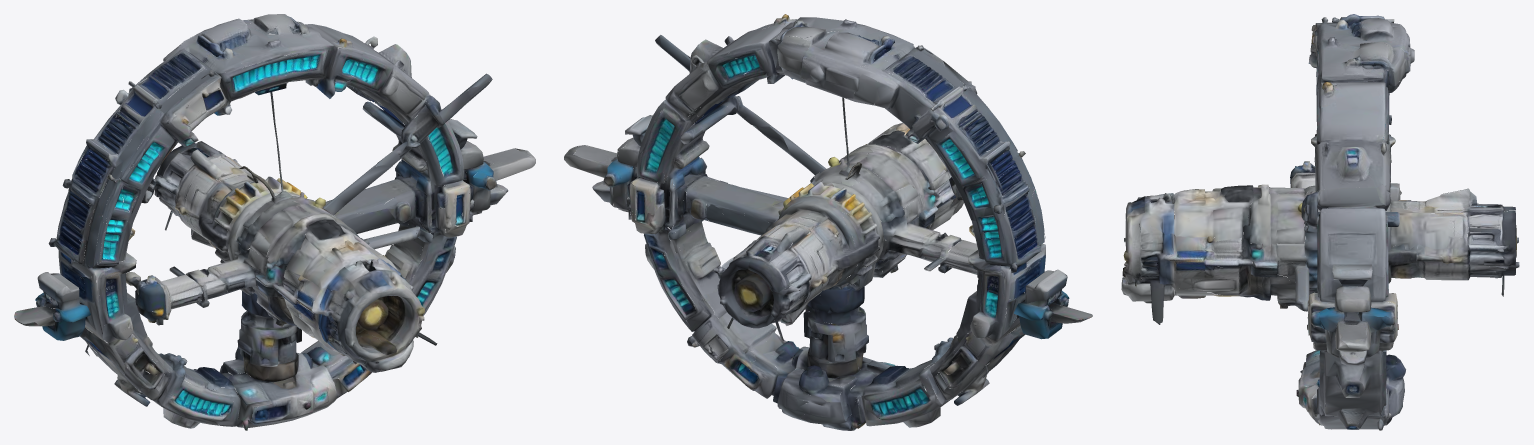
The model's file is station_nova1.glb.
3 renders of one model, left to right at view 1: azimuth 30°, elevation 25°; view 2: azimuth 150°, elevation 25°; view 3: azimuth 270°, elevation 25°, orthographic. The views are drawn at different scales.
Visible parts, largest first — view 1: tripo_node_04818bd4-21a9-4662-8d40-6d0f2524563c; view 2: tripo_node_04818bd4-21a9-4662-8d40-6d0f2524563c; view 3: tripo_node_04818bd4-21a9-4662-8d40-6d0f2524563c.
Boxes of the visible parts, x1,y1,x2,y2 form: tripo_node_04818bd4-21a9-4662-8d40-6d0f2524563c: (14,14,535,430); tripo_node_04818bd4-21a9-4662-8d40-6d0f2524563c: (564,14,1092,430); tripo_node_04818bd4-21a9-4662-8d40-6d0f2524563c: (1121,14,1519,430).
Size of the model in its own units: 300 by 216 by 206.
1 material, 1 textured.
